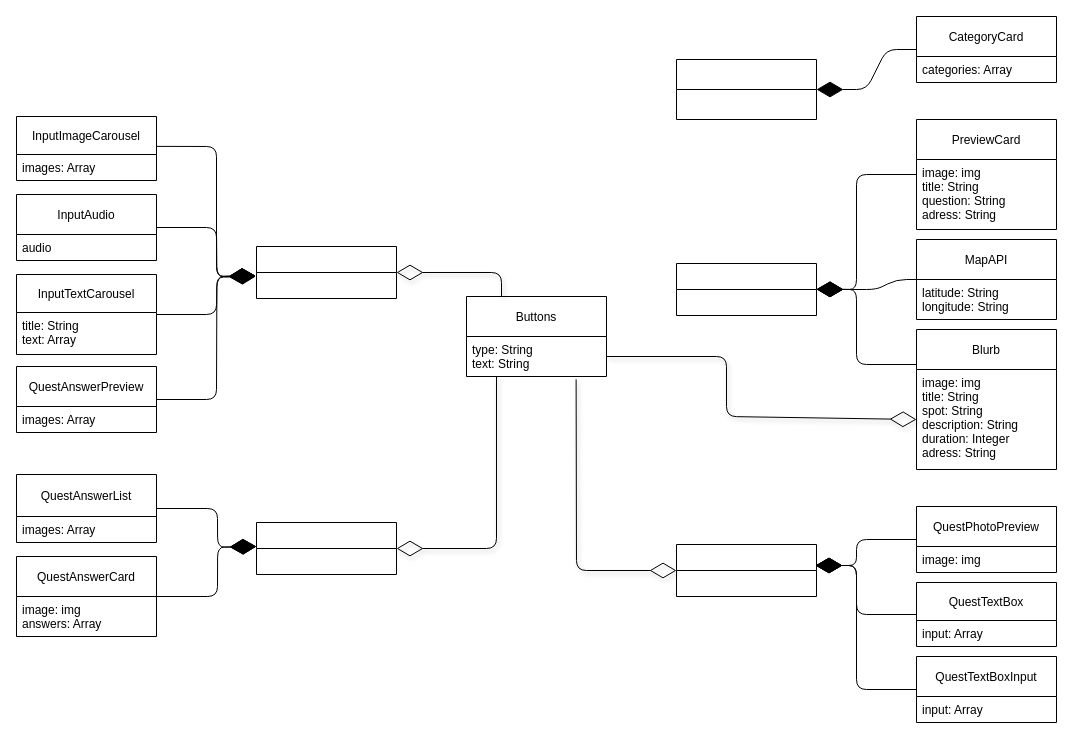
The diagram is 1073 pixels wide and 739 high, and some of its shapes have lost their labels. The centre of each missing label's shape, as x and y in pixels:
Category: the point at 746,89
Input: the point at 326,272
Map: the point at 746,289
Quest: the point at 746,570
QuestAnswers: the point at 326,548
